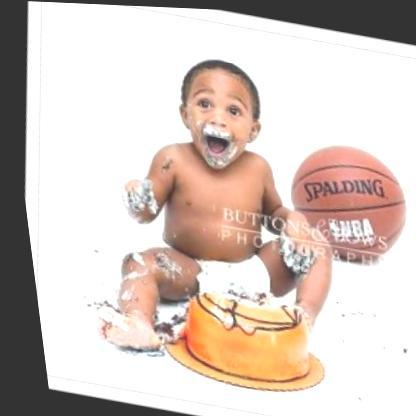basketball: (262, 122, 416, 274)
